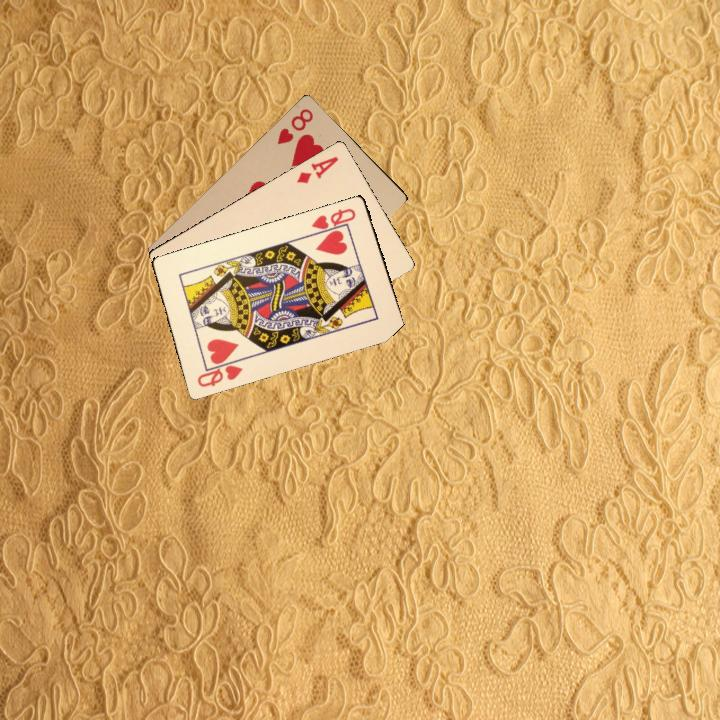8h: (273, 104, 316, 147)
Ad: (293, 152, 341, 186)
Qh: (193, 355, 245, 389), (308, 204, 358, 237)
